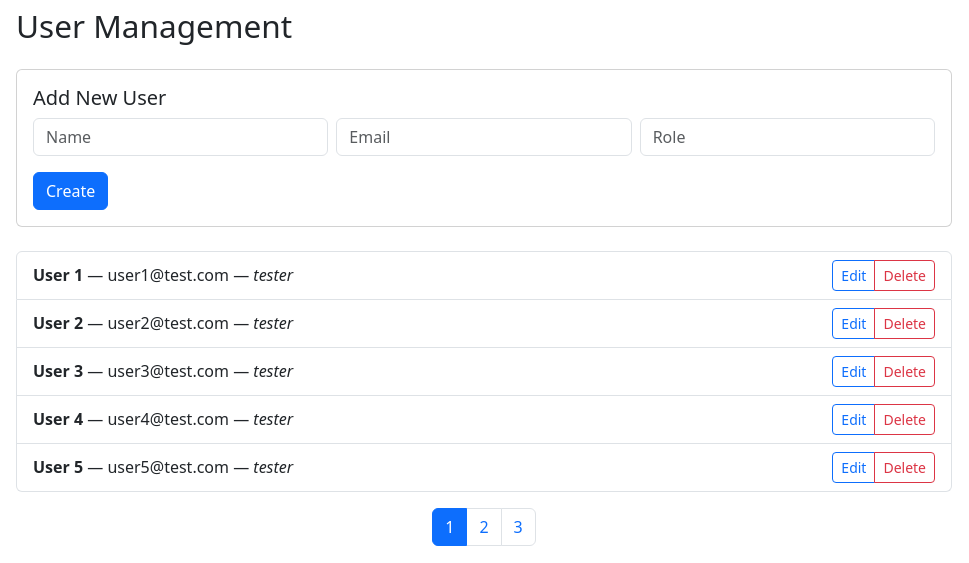
Scenario: UserManagement component › enters edit mode when Edit is clicked
Click the button "Edit" in the row of "User 2" at (854, 323), box [832,308,876,339]
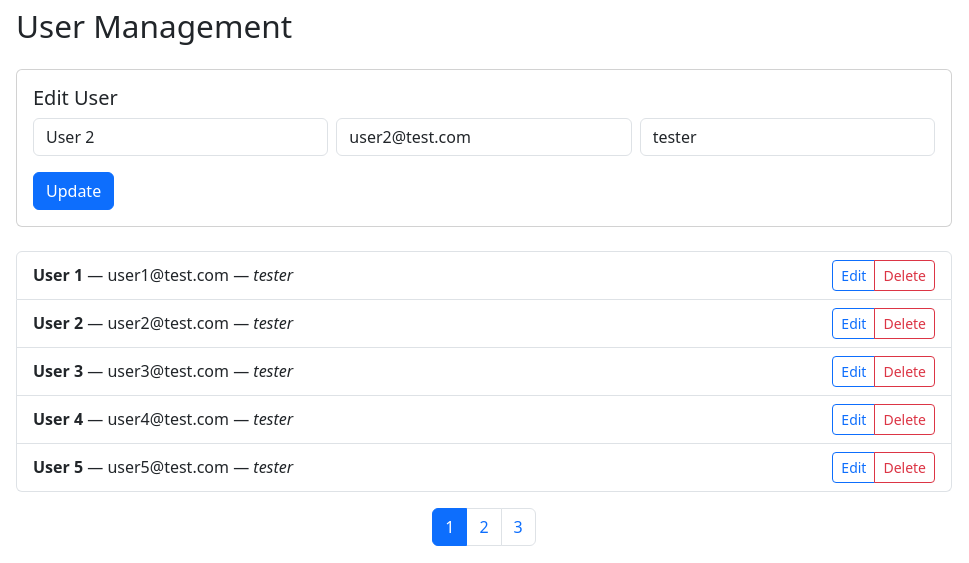
Expected: the 1st field with placeholder "Name" holds "User 2", [33,118,328,156]
Expected: the 2nd field with placeholder "Email" holds "user2@test.com", [336,118,632,156]
Expected: the 3rd field with placeholder "Role" holds "tester", [640,118,935,156]
